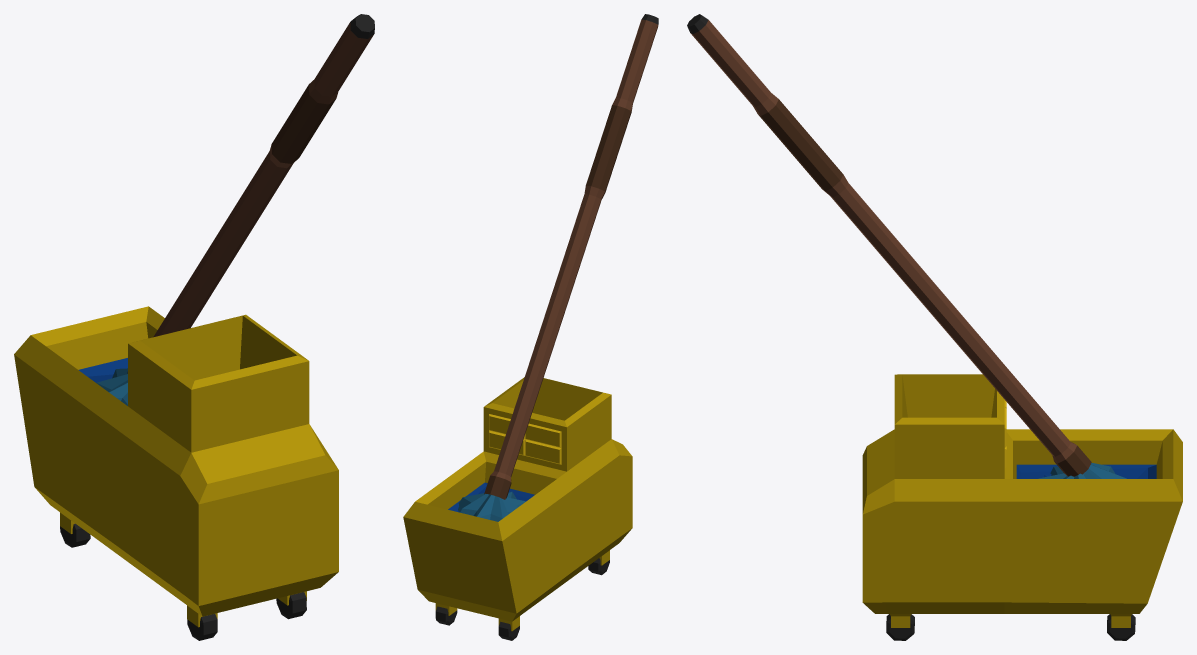
File: MopBucketV2WithMop.fbx
3 renders of one model, left to right at view 1: azimuth 30°, elevation 25°; view 2: azimuth 150°, elevation 25°; view 3: azimuth 270°, elevation 25°, orthographic. The views are drawn at different scales.
Visible parts, largest first — view 1: MopBucketV2WithMop; view 2: MopBucketV2WithMop; view 3: MopBucketV2WithMop.
Boxes of the visible parts, x1=… form: MopBucketV2WithMop: x1=14, y1=14, x2=374, y2=640; MopBucketV2WithMop: x1=403, y1=14, x2=658, y2=640; MopBucketV2WithMop: x1=687, y1=14, x2=1182, y2=640.
Bounding box in the file's own units: 27.96 × 133 × 98.69.
